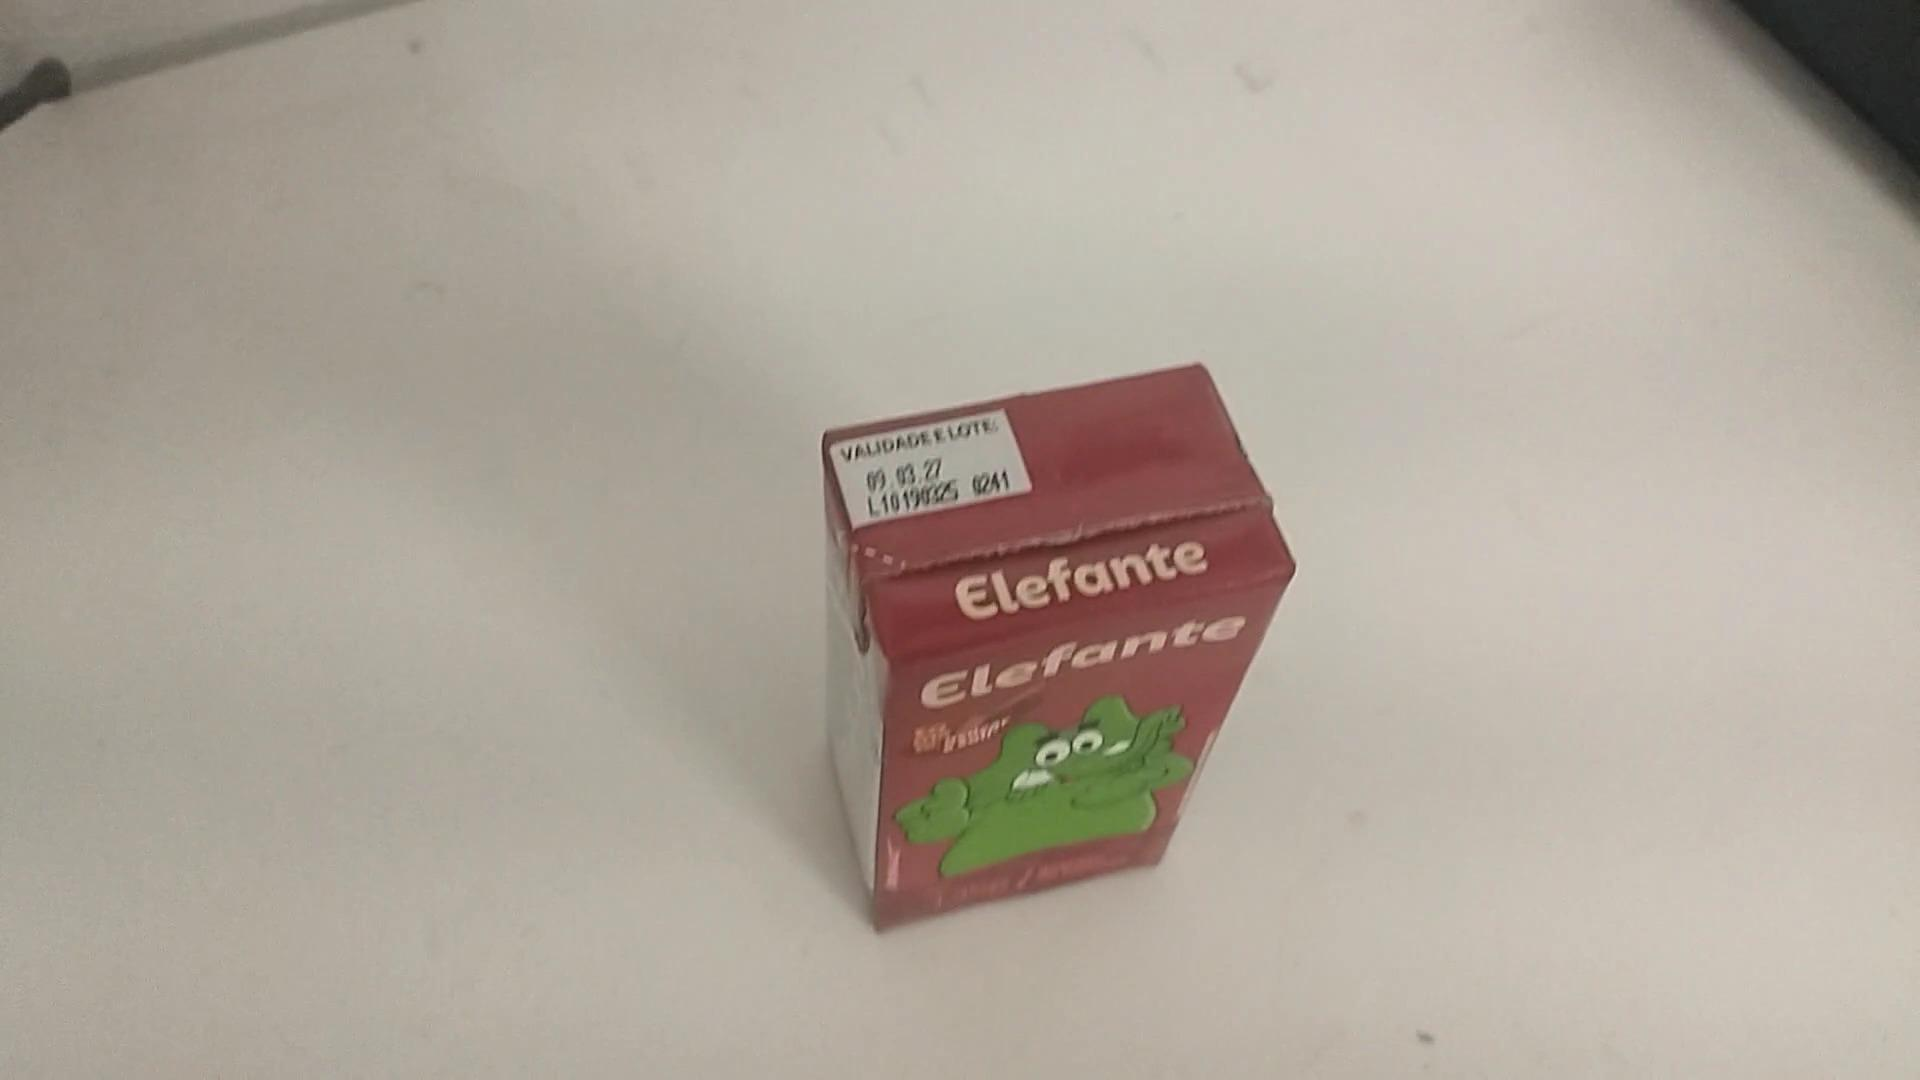tomate: (804, 352, 1298, 930)
